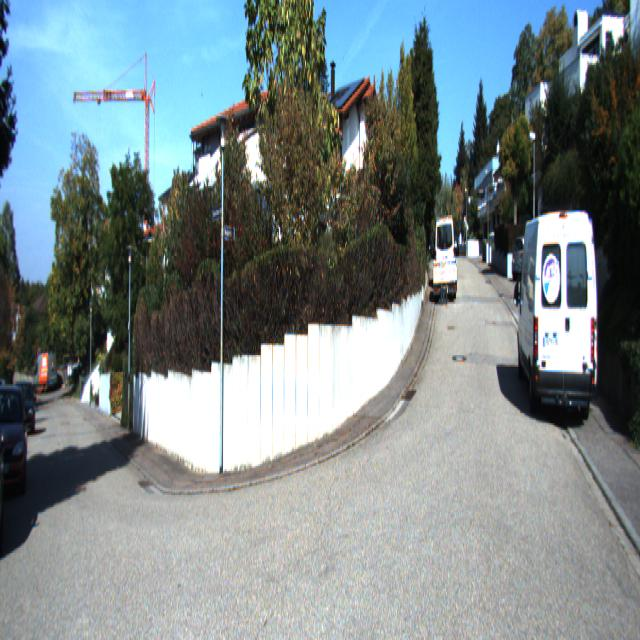Car: (515, 192, 605, 422), (0, 378, 29, 511), (435, 216, 455, 293), (14, 378, 36, 441), (432, 260, 458, 300)
